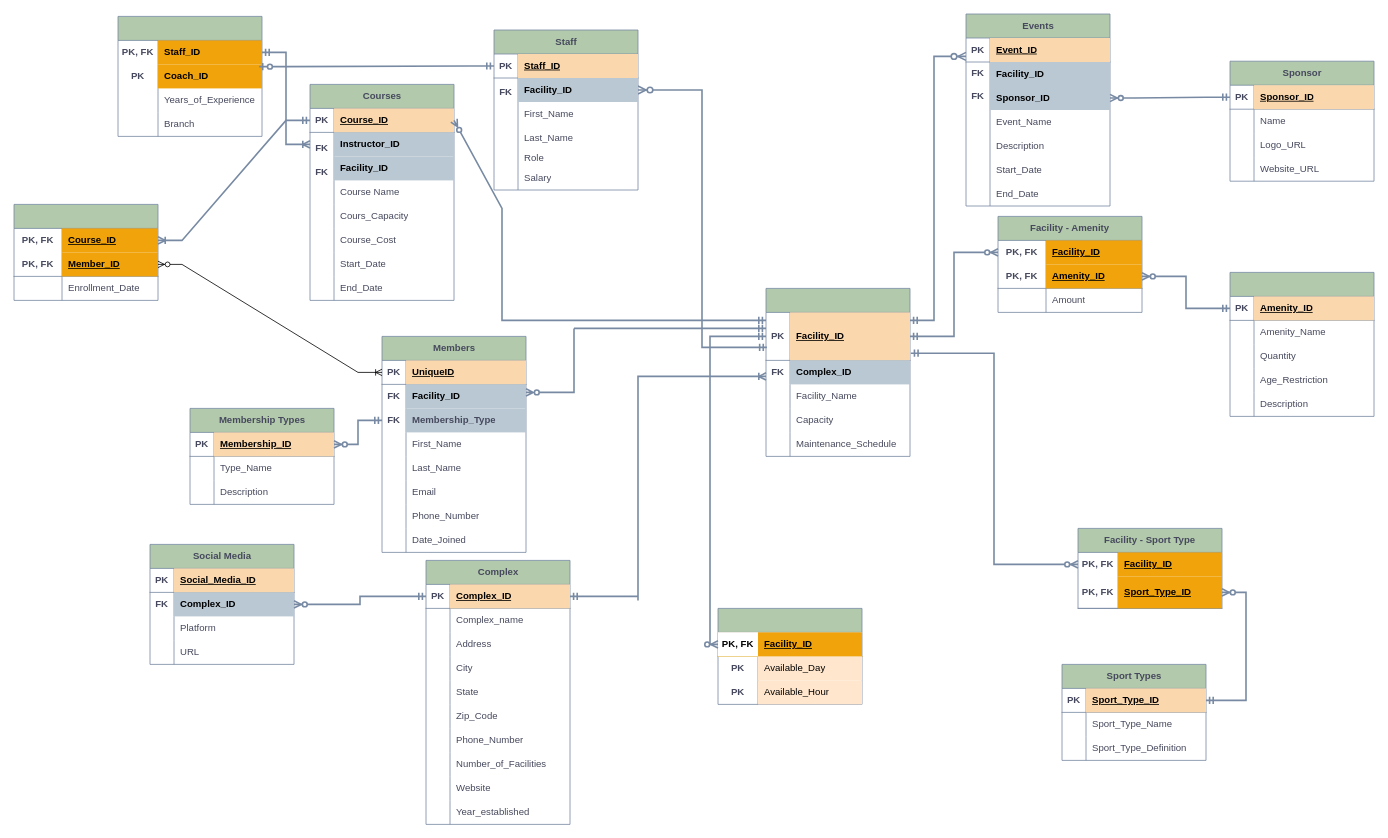
Image size: 1388x838. Some labels were removed from this diagram. Each missing label, with the box of its shape:
Amenities: (1229, 272, 1374, 416)
Availability: (717, 608, 862, 704)
Coaches: (117, 16, 262, 136)
Course Enrollments: (13, 204, 158, 300)
Facilities: (765, 288, 910, 456)
